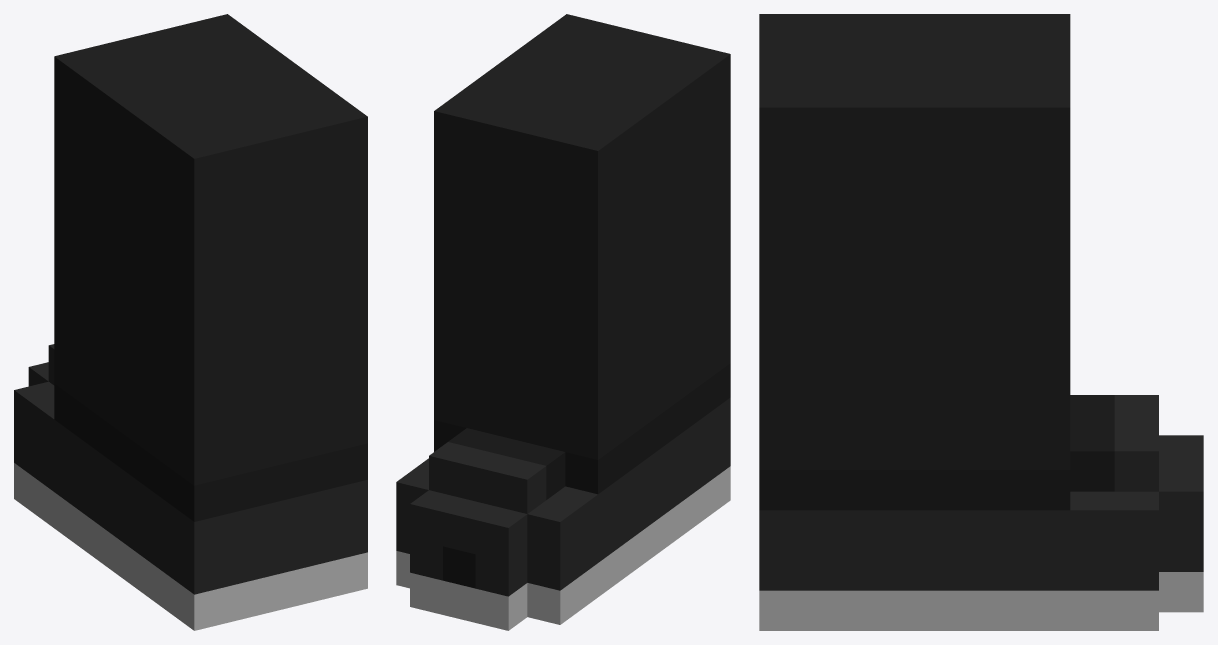
Rendered from ohrannik.obj.
The picture shows the model from 3 angles, left to right: view 1: azimuth 30°, elevation 25°; view 2: azimuth 150°, elevation 25°; view 3: azimuth 270°, elevation 25°; orthographic projection. The views are drawn at different scales.
Size of the model in its own units: 0.5 by 1.3 by 1.
1 material, 1 textured.
